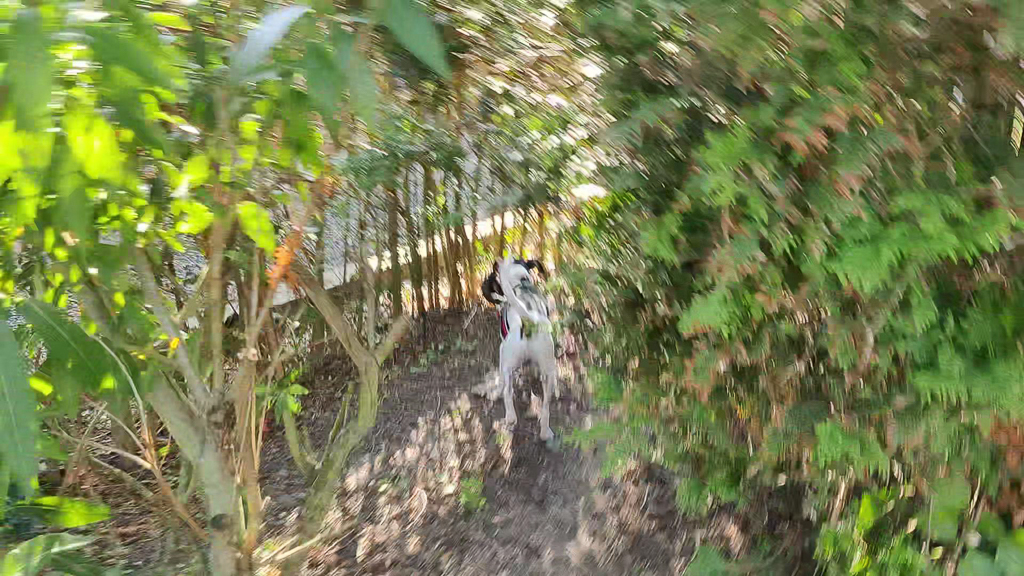Dog: (450, 242, 592, 453)
